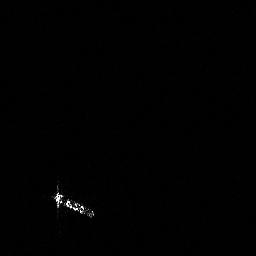ship: (52, 183, 96, 220)
